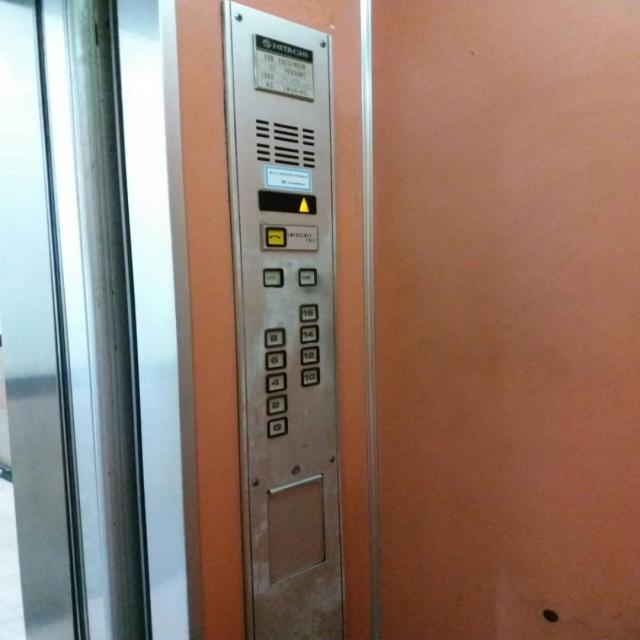10: (300, 366, 320, 387)
12: (298, 344, 322, 366)
14: (295, 324, 321, 345)
16: (296, 302, 320, 323)
2: (264, 393, 289, 415)
4: (263, 371, 289, 393)
6: (264, 349, 287, 372)
8: (262, 327, 286, 347)
G: (265, 416, 291, 438)
blur: (259, 266, 289, 288), (295, 266, 320, 288)
call: (266, 225, 286, 247)
keyhole: (286, 462, 303, 476)
led: (256, 189, 318, 216)
